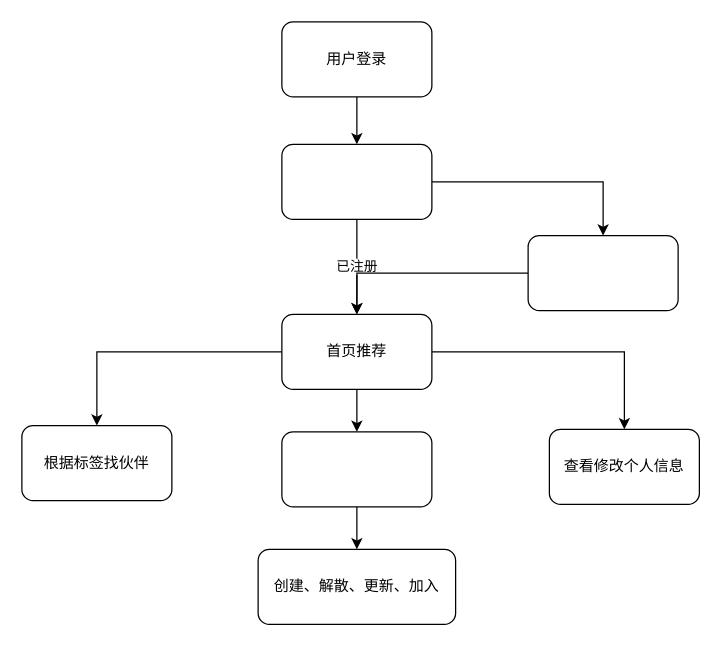
This 721x646 diagram has some shape labels left out. The box of each missing label's shape, as (x1, y1, x2, y2) in pixels:
是否注册？: (281, 143, 432, 219)
组队功能: (281, 431, 432, 507)
进行注册: (527, 234, 678, 311)
